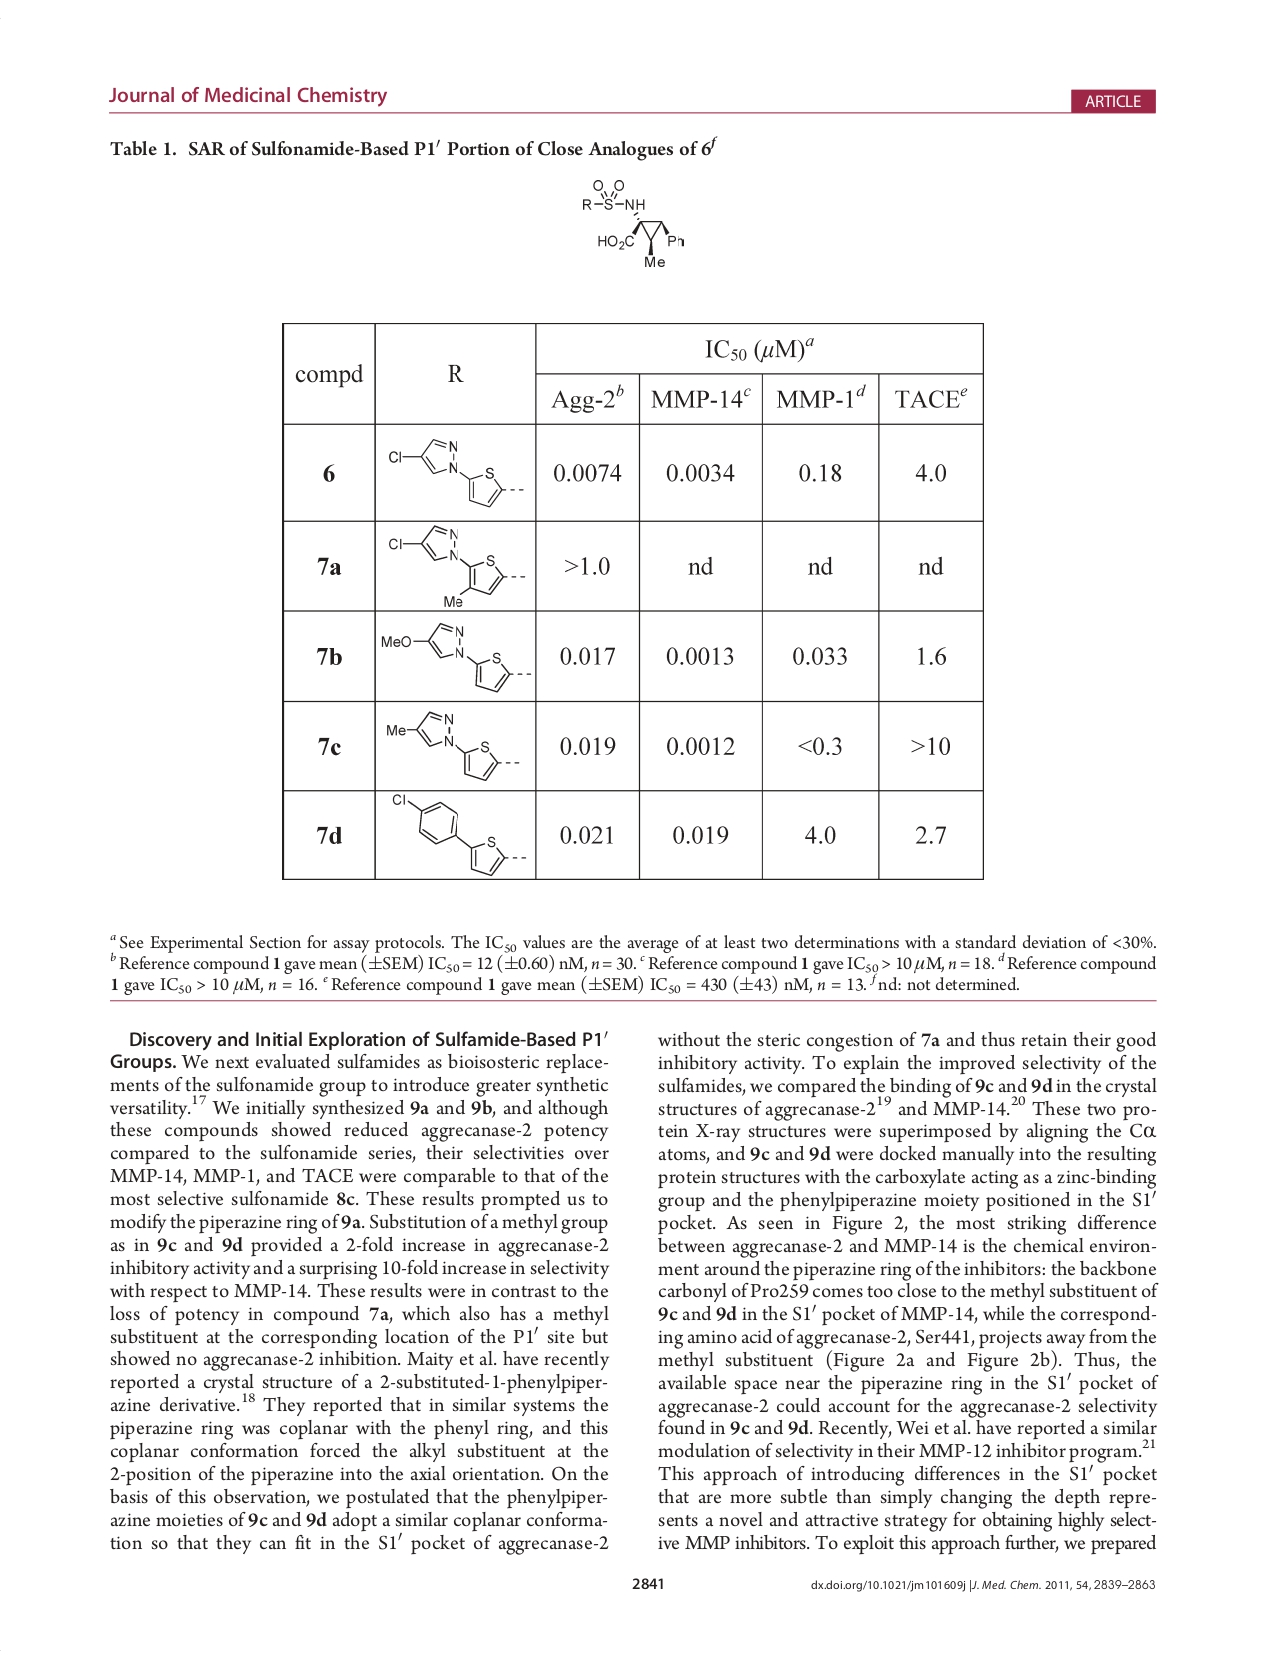exist_molecular: (387, 793, 529, 878), (378, 618, 532, 696), (387, 524, 527, 608), (382, 436, 527, 515), (578, 172, 686, 271), (383, 709, 523, 783)
